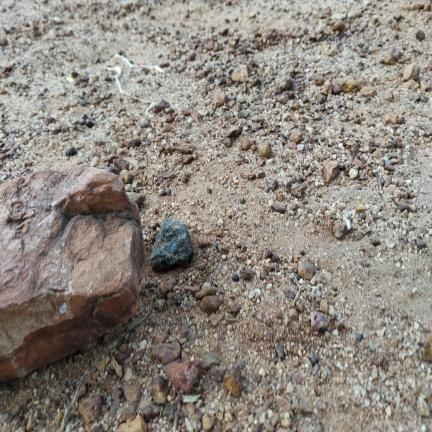Rocks: (0, 161, 144, 381), (151, 219, 192, 269), (166, 361, 202, 393), (151, 341, 180, 364), (79, 395, 101, 424), (223, 367, 242, 397), (150, 377, 168, 404), (117, 415, 147, 431), (323, 159, 339, 183), (200, 295, 220, 314), (310, 311, 329, 331), (231, 65, 252, 83), (159, 278, 177, 298), (195, 283, 217, 299), (124, 384, 141, 404), (416, 394, 430, 417), (403, 64, 420, 81), (203, 353, 220, 370), (298, 263, 315, 280), (341, 76, 359, 92), (142, 405, 160, 421), (299, 396, 313, 414), (111, 357, 123, 377), (333, 222, 347, 239), (127, 192, 144, 206), (291, 183, 306, 198), (423, 333, 431, 361), (214, 89, 227, 106), (113, 159, 129, 172), (225, 125, 241, 138), (155, 99, 169, 113), (209, 313, 223, 327), (259, 142, 271, 158), (202, 414, 214, 430), (120, 170, 133, 184), (26, 413, 36, 431), (275, 343, 285, 361), (270, 203, 286, 213), (360, 87, 376, 97), (239, 268, 252, 280), (290, 131, 302, 144), (384, 113, 398, 124), (334, 20, 346, 32), (65, 146, 77, 157), (384, 53, 395, 65), (420, 124, 431, 136), (281, 418, 291, 430), (421, 80, 431, 91), (416, 239, 426, 249), (289, 309, 298, 320), (384, 90, 393, 101), (349, 168, 358, 179), (416, 30, 425, 40), (311, 355, 319, 366)
